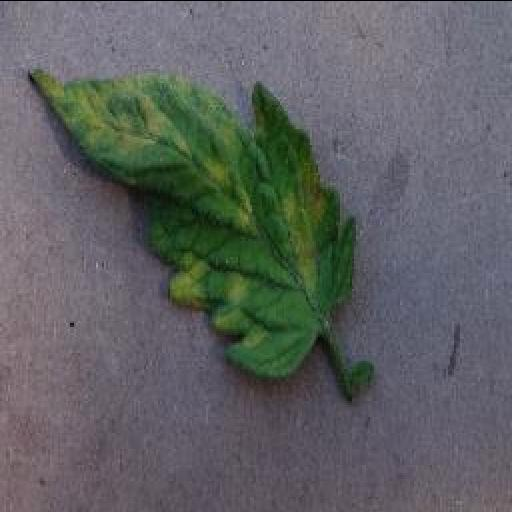disease_tomato: (29, 69, 359, 378)
